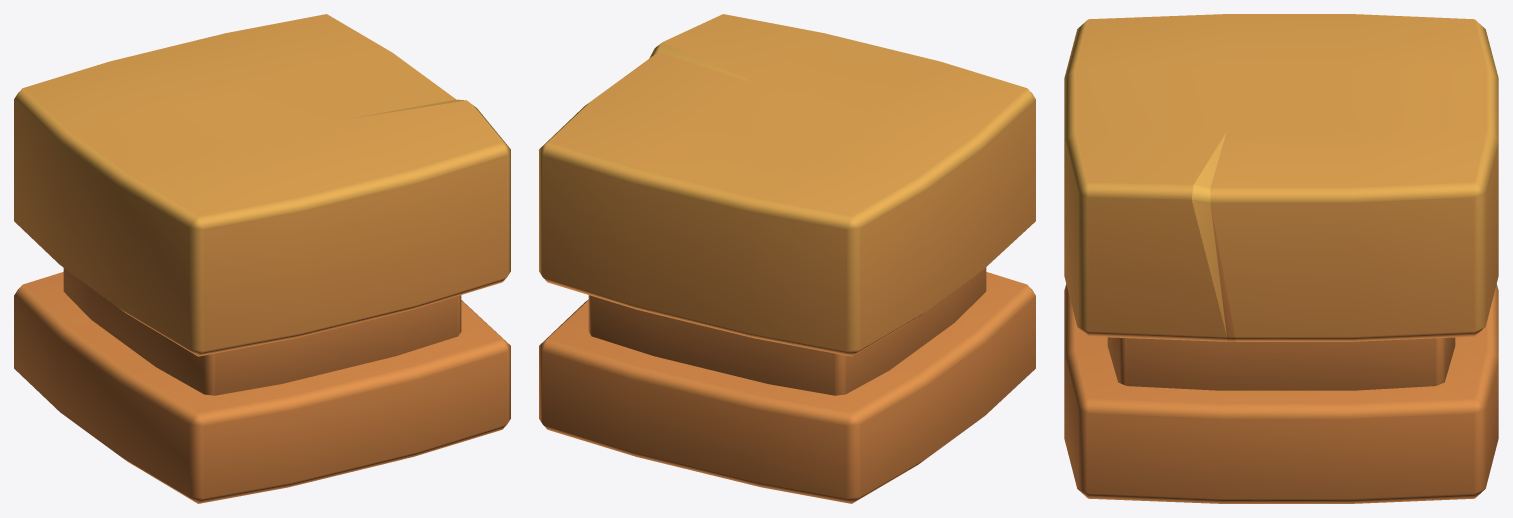
File: pillar_large_segment_2.fbx
3 views of the same model, side by side, from view 1: azimuth 30°, elevation 25°; view 2: azimuth 150°, elevation 25°; view 3: azimuth 270°, elevation 25° (orthographic). The views are drawn at different scales.
Parts seen in each view (by area): view 1: pillar_large_segment_2; view 2: pillar_large_segment_2; view 3: pillar_large_segment_2.
Part boxes in pixels (x1,y1,x2,y2): pillar_large_segment_2: (14,14,510,503); pillar_large_segment_2: (539,14,1035,503); pillar_large_segment_2: (1064,14,1498,503).
Size of the model in its own units: 275 by 222 by 273.
